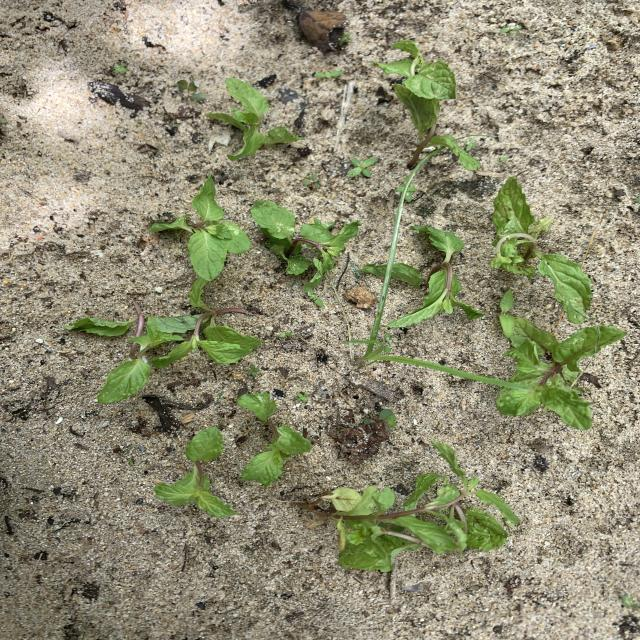crop: (65, 174, 260, 400), (329, 441, 519, 571), (496, 318, 626, 429), (493, 177, 591, 323), (375, 41, 479, 170), (253, 200, 359, 305), (386, 226, 482, 327), (208, 78, 299, 159), (237, 392, 312, 486), (154, 428, 235, 515)
weed: (348, 150, 526, 390), (499, 290, 516, 339), (349, 156, 376, 178), (177, 80, 206, 100), (379, 407, 396, 428), (314, 69, 343, 79), (621, 593, 639, 609), (303, 173, 320, 189), (247, 365, 260, 377), (295, 392, 308, 403), (279, 331, 291, 338)
